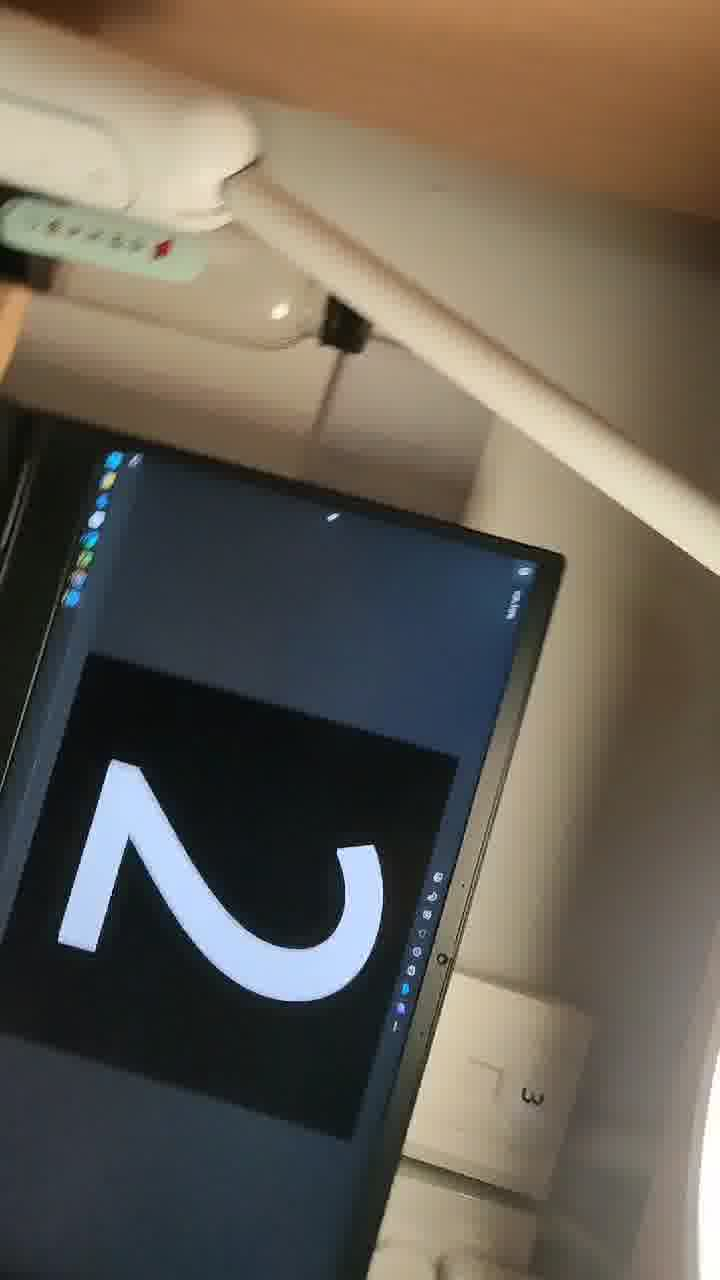two: (60, 712, 450, 1088)
